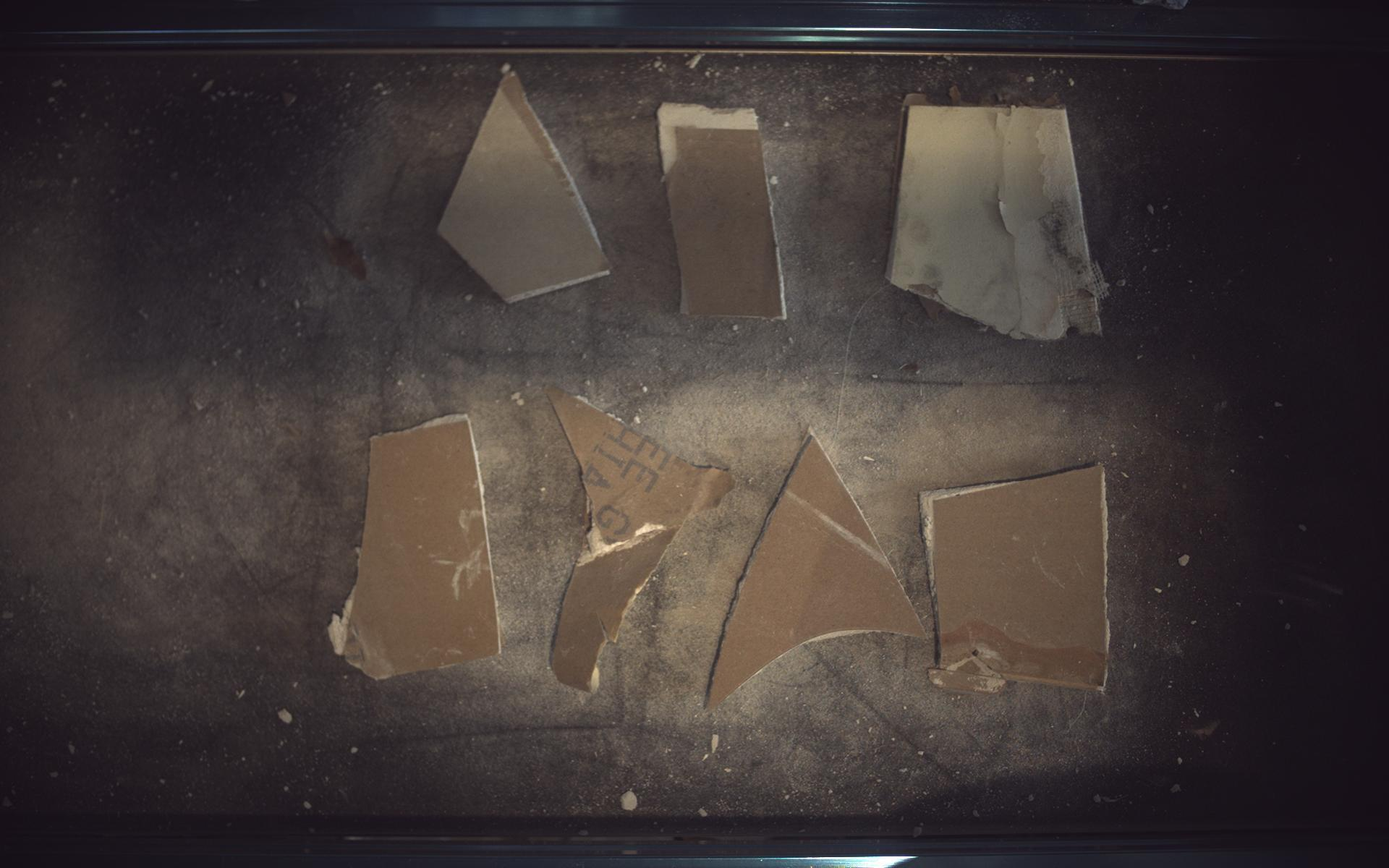gypsum_board: (708, 431, 927, 709), (547, 388, 735, 693), (888, 94, 1110, 340), (328, 414, 501, 680), (922, 464, 1111, 694), (438, 63, 610, 302), (659, 102, 787, 318)
